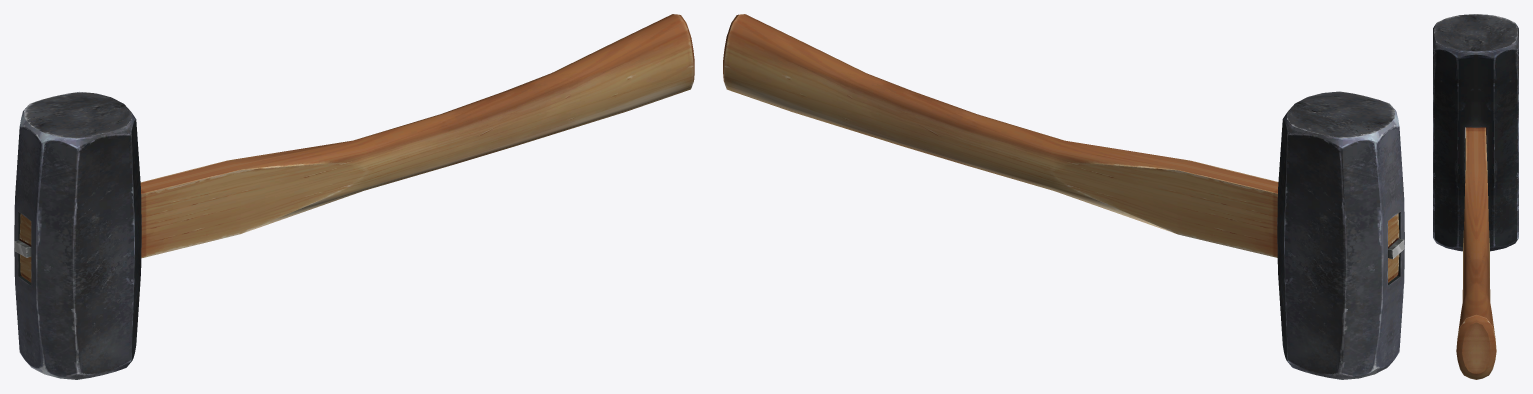
The model's file is Hammer.obj.
3 views of the same model, side by side, from view 1: azimuth 30°, elevation 25°; view 2: azimuth 150°, elevation 25°; view 3: azimuth 270°, elevation 25° (orthographic). The views are drawn at different scales.
Visible parts, largest first — view 1: pfb_chr_prop1630_00_(UmaContainerProp)_mesh; view 2: pfb_chr_prop1630_00_(UmaContainerProp)_mesh; view 3: pfb_chr_prop1630_00_(UmaContainerProp)_mesh.
Boxes of the visible parts, x1,y1,x2,y2 form: pfb_chr_prop1630_00_(UmaContainerProp)_mesh: (14, 14, 694, 379); pfb_chr_prop1630_00_(UmaContainerProp)_mesh: (723, 14, 1404, 379); pfb_chr_prop1630_00_(UmaContainerProp)_mesh: (1433, 14, 1518, 379).
Bounding box in the file's own units: 0.3279 × 0.1156 × 0.044.
Materials: 1 (1 with a texture image).
